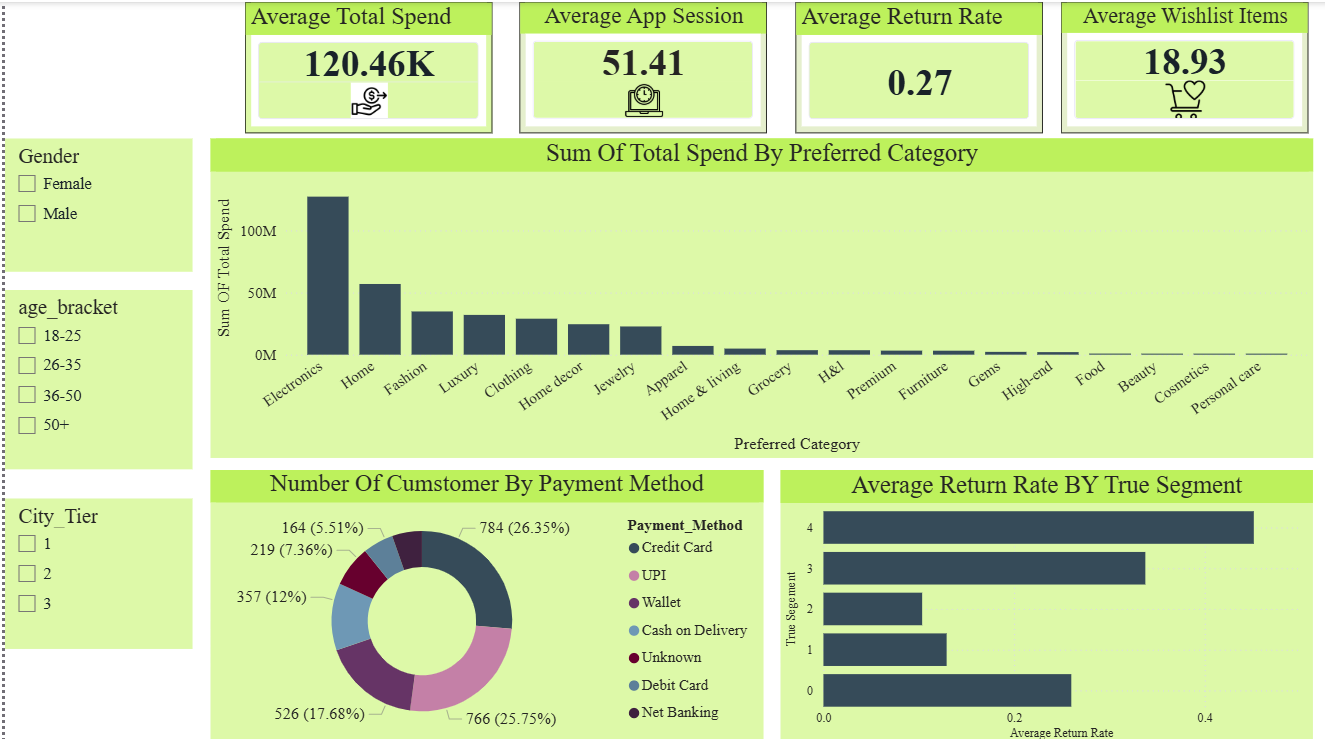

Layout of this report page (visuals, bound fields, positions):
{"tool":"powerbi","page":{"name":"Page 2","canvas":[1280,720],"ordinal":1},"visuals":[{"type":"cardVisual","title":"Average Total Spend","fields":{"Data":["Avg(shopsmart_customers cleaned.Total_Spend)"]},"box":[233.6,0,240.2,127.5],"z":0},{"type":"cardVisual","title":"Average App Session","fields":{"Data":["Avg(shopsmart_customers cleaned.App_Sessions_Per_Week)"]},"box":[498.6,0,240.2,127.5],"z":1000},{"type":"cardVisual","title":"Return Rate","fields":{"Data":["Sum(shopsmart_customers cleaned.Return_Rate)"]},"box":[767,0,240.2,127.5],"z":2000},{"type":"cardVisual","title":"Average Wishlist Items","fields":{"Data":["Avg(shopsmart_customers cleaned.Wishlist_Items)"]},"box":[1025.4,0,240.2,127.5],"z":3000},{"type":"clusteredBarChart","title":"Average Return Rate BY True Segment","fields":{"Category":["shopsmart_customers cleaned.True_Segment"],"Y":["Avg(shopsmart_customers cleaned.Return_Rate)"]},"box":[752,453.9,516.8,266.7],"z":4000},{"type":"columnChart","title":"Sum Of Total Spend By Preferred Category","fields":{"Category":["shopsmart_customers cleaned.Preferred_Category"],"Y":["Sum(shopsmart_customers cleaned.Total_Spend)"]},"box":[198.8,132.5,1070.1,309.8],"z":5000},{"type":"donutChart","title":"Number Of Cumstomer By Payment Method","fields":{"Category":["shopsmart_customers cleaned.Payment_Method"],"Y":["Count(shopsmart_customers cleaned.Customer_ID)"]},"box":[198.8,453.9,536.7,266.7],"z":6000},{"type":"slicer","fields":{"Values":["shopsmart_customers cleaned.Gender"]},"box":[0,132.5,182.2,129.2],"z":7000},{"type":"slicer","fields":{"Values":["shopsmart_customers cleaned.age_bracket"]},"box":[0,279.9,182.2,173.9],"z":8000},{"type":"slicer","fields":{"Values":["shopsmart_customers cleaned.City_Tier"]},"box":[0,482,182.2,145.8],"z":9000}]}

Visuals, with their boxes in screenshot pixels (x1, y1, x2, y2), scaled from the page's 1280x720 canvas onto the 1325x739 screenshot:
"Average Total Spend" cardVisual: {"left": 242, "top": 0, "right": 490, "bottom": 131}
"Average App Session" cardVisual: {"left": 516, "top": 0, "right": 765, "bottom": 131}
"Return Rate" cardVisual: {"left": 794, "top": 0, "right": 1043, "bottom": 131}
"Average Wishlist Items" cardVisual: {"left": 1061, "top": 0, "right": 1310, "bottom": 131}
"Average Return Rate BY True Segment" clusteredBarChart: {"left": 778, "top": 466, "right": 1313, "bottom": 738}
"Sum Of Total Spend By Preferred Category" columnChart: {"left": 206, "top": 136, "right": 1314, "bottom": 454}
"Number Of Cumstomer By Payment Method" donutChart: {"left": 206, "top": 466, "right": 761, "bottom": 738}
slicer - shopsmart_customers cleaned.Gender: {"left": 0, "top": 136, "right": 189, "bottom": 269}
slicer - shopsmart_customers cleaned.age_bracket: {"left": 0, "top": 287, "right": 189, "bottom": 466}
slicer - shopsmart_customers cleaned.City_Tier: {"left": 0, "top": 495, "right": 189, "bottom": 644}
